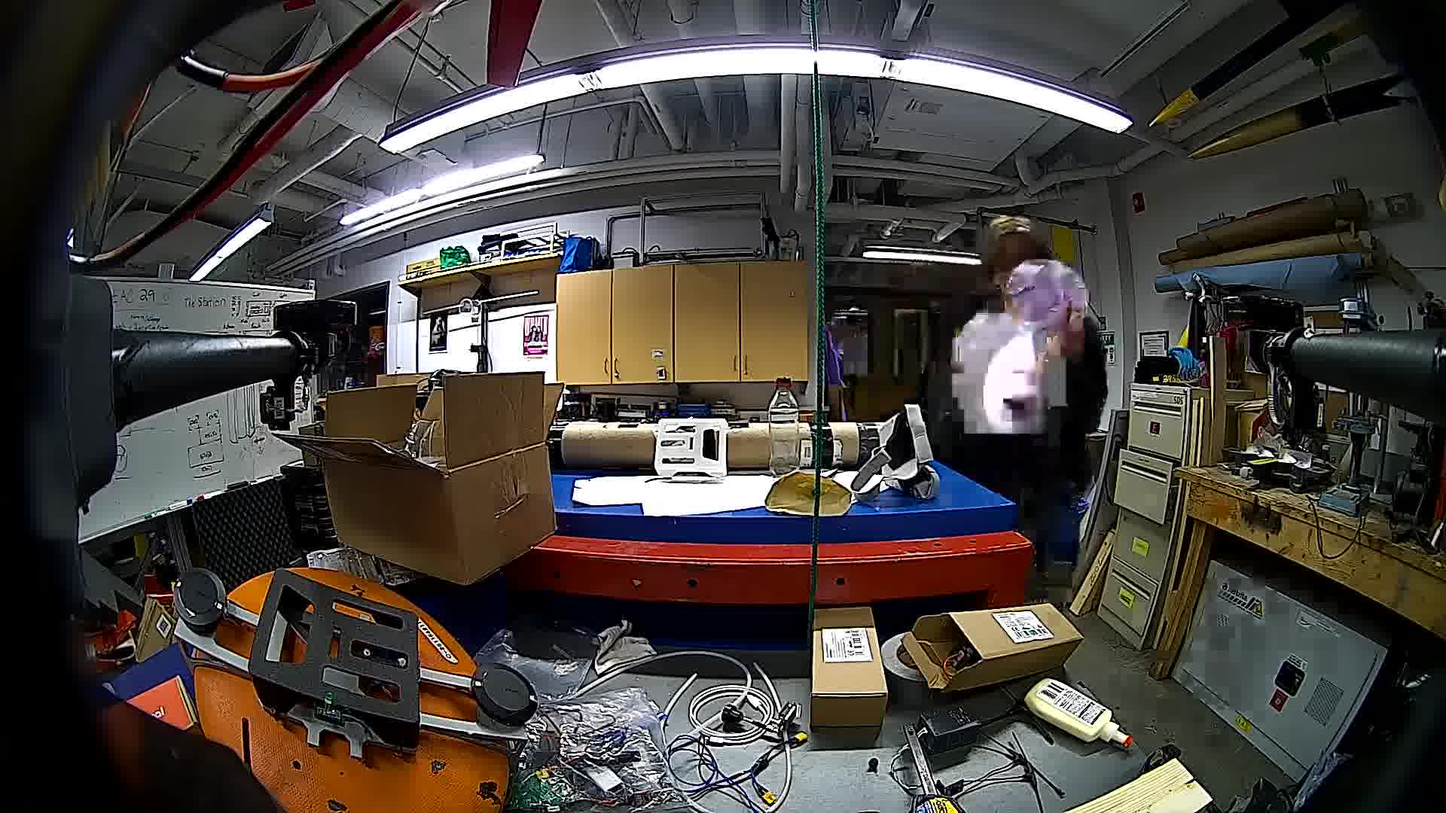Target: (1005, 254, 1091, 332)
